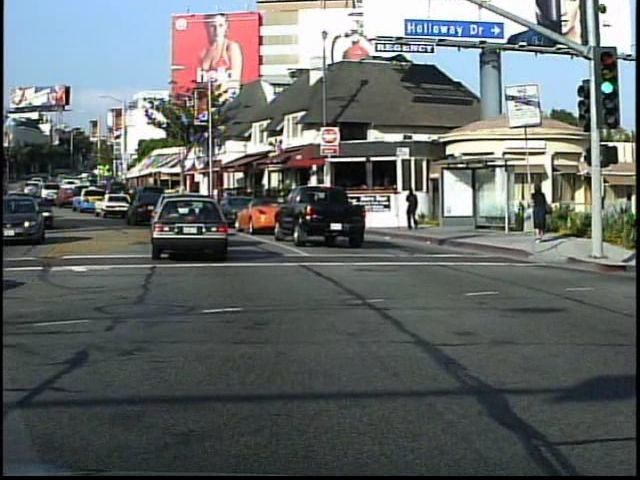person: (532, 182, 556, 248), (404, 186, 423, 235)
